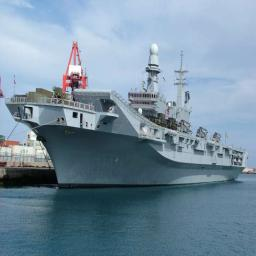Portanaves: (6, 42, 251, 192)
